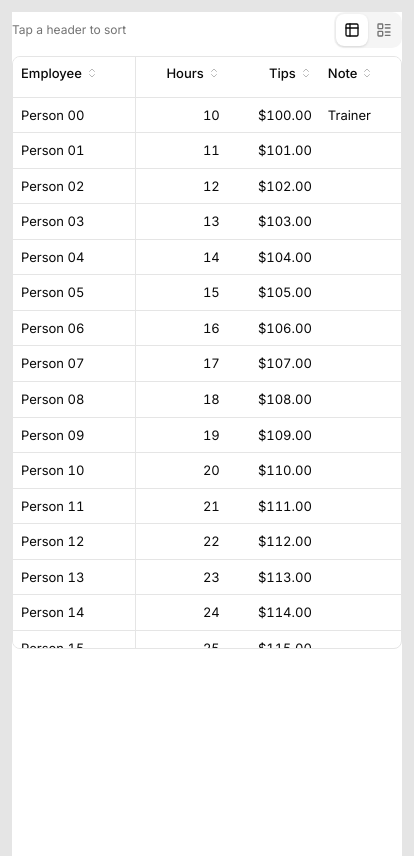
Test: DataTable on phones › cards: first column is the title, blank fields are skipped
Step 1. Click the button named "Cards layout" → (384, 30), box [368,14,400,46]
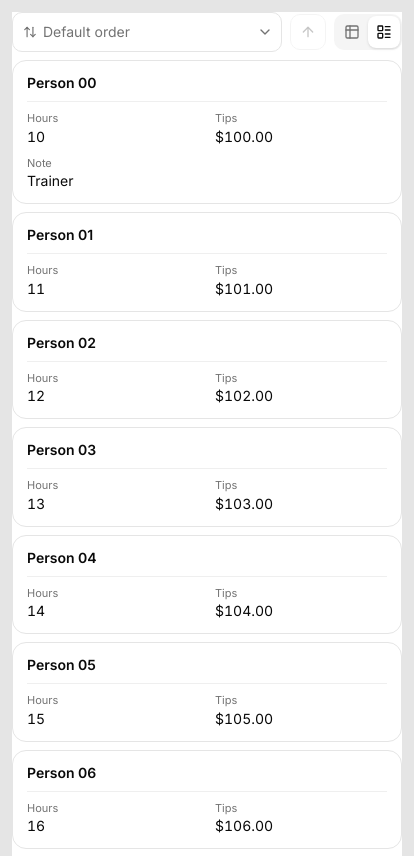
Expected: the text "Person 00" is shown, [27,73,96,93]
Now the number of list items is 20
